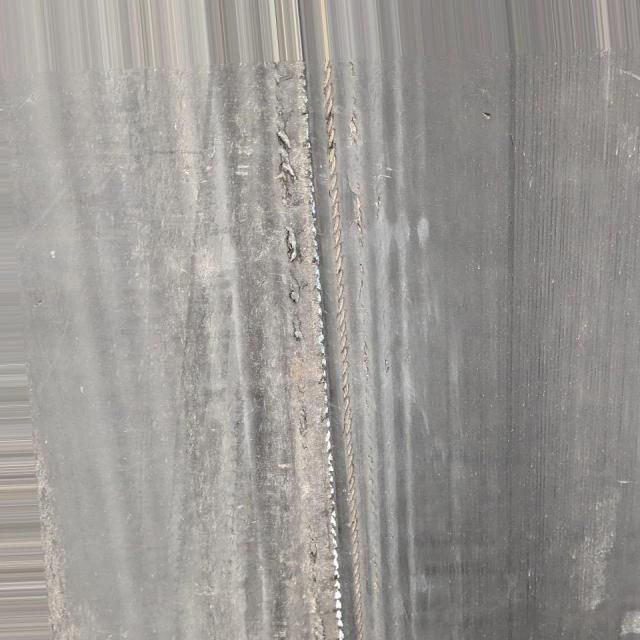impact damage: (269, 99, 375, 640)
